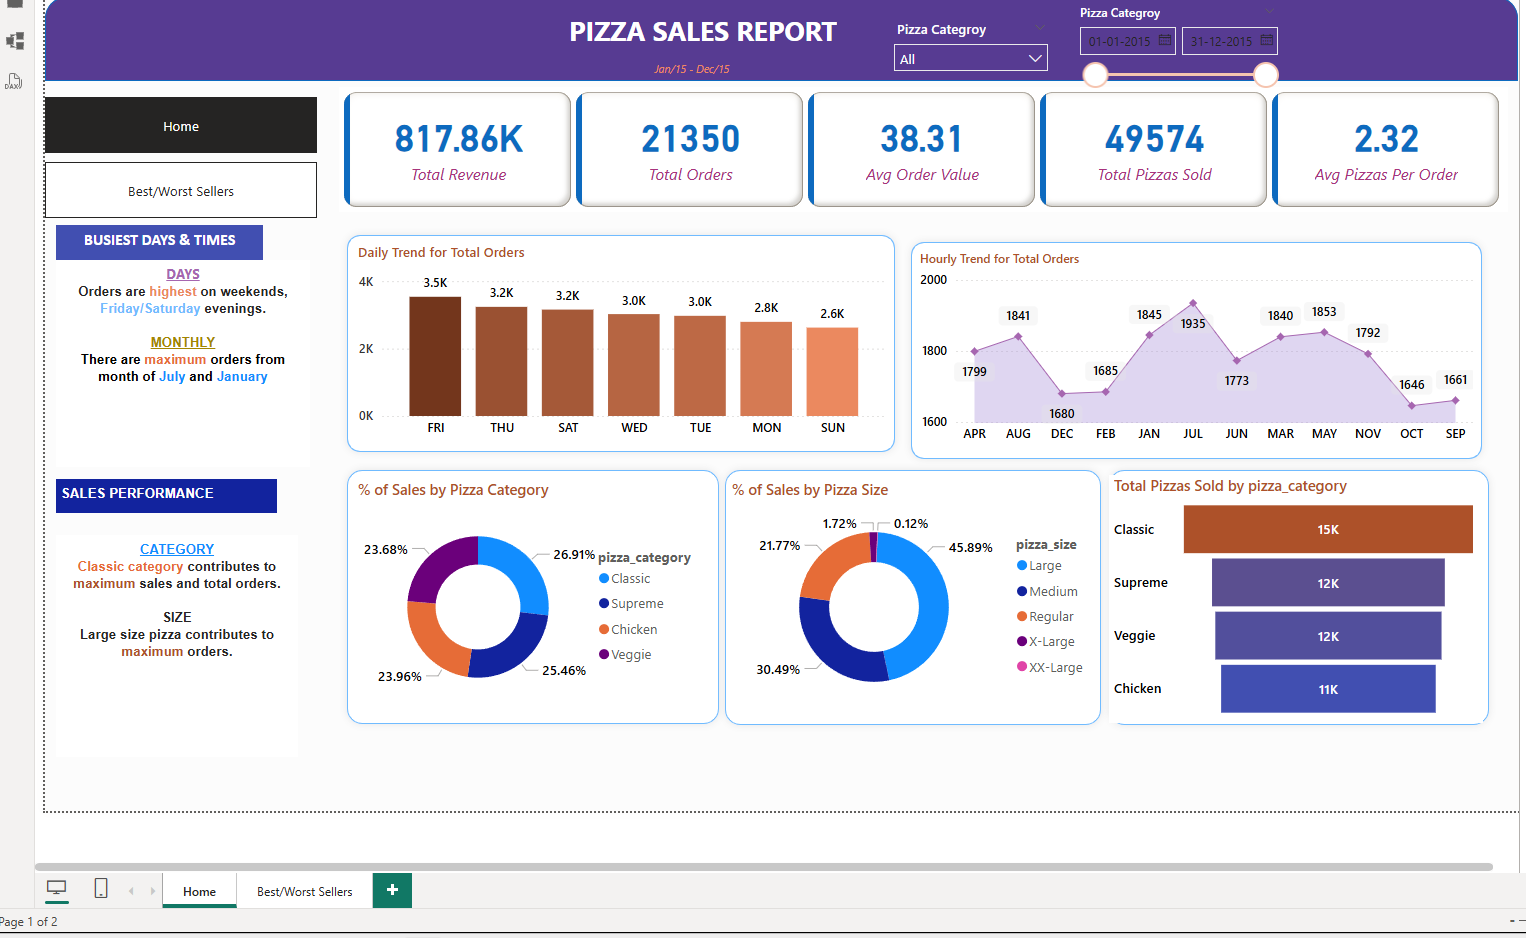

What the dashboard file says about the page in this screenshot:
{"tool":"powerbi","page":{"name":"Home","canvas":[1500,820],"ordinal":0},"visuals":[{"type":"cardVisual","fields":{"Data":["pizza_sales.Total Revenue","pizza_sales.Total Orders","pizza_sales.Avg Order Value","pizza_sales.Total Pizzas Sold","pizza_sales.Avg Pizzas Per Order"]},"box":[294,96,1169,125],"z":0},{"type":"shape","box":[0,6,1473,84],"z":1000},{"type":"textbox","box":[497,16,322,49],"z":2000},{"type":"textbox","box":[576,63,142,27],"z":3000},{"type":"shape","box":[294,236,564,233],"z":4000},{"type":"columnChart","title":"Daily Trend for Total Orders","fields":{"Y":["pizza_sales.Total Orders"],"Category":["pizza_sales.order day"]},"box":[308,252,538,203],"z":5000},{"type":"shape","box":[858,243,587,233],"z":6000},{"type":"areaChart","title":"Hourly Trend for Total Orders","fields":{"Y":["pizza_sales.Total Orders"],"Category":["pizza_sales.Order Month"]},"box":[870,259,563,202],"z":7000},{"type":"shape","box":[294,471,388,270],"z":8000},{"type":"shape","box":[672,471,392,271],"z":9000},{"type":"shape","box":[1056,471,396,271],"z":10000},{"type":"donutChart","title":"% of Sales by Pizza Category","fields":{"Category":["pizza_sales.pizza_category"],"Y":["pizza_sales.Total Revenue"]},"box":[308,488,359,236],"z":11000},{"type":"donutChart","title":"% of Sales by Pizza Size","fields":{"Y":["pizza_sales.Total Revenue"],"Category":["pizza_sales.pizza_size"]},"box":[682,488,374,236],"z":12000},{"type":"textbox","box":[11,234,207,35],"z":13000},{"type":"funnel","fields":{"Category":["pizza_sales.pizza_category"],"Y":["pizza_sales.Total Pizzas Sold"]},"box":[1064,484,374,248],"z":14000},{"type":"textbox","box":[11,269,254,207],"z":15000},{"type":"textbox","box":[11,488,221,34],"z":16000},{"type":"textbox","box":[11,544,242,222],"z":17000},{"type":"slicer","fields":{"Values":["pizza_sales.pizza_category"]},"box":[839,24,174,66],"z":18000},{"type":"slicer","fields":{"Values":["pizza_sales.order_date"]},"box":[1022,8,220,98],"z":19000},{"type":"pageNavigator","box":[0,106,272,56],"z":19001},{"type":"pageNavigator","box":[0,171,272,56],"z":19002}]}

Visuals, with their boxes on the page's 1500x820 design canvas (x1, y1, x2, y2). These are canvas units, not pixel positions in the 1526x938 screenshot, which may show the page scaled, cropped or inside an application window:
cardVisual - pizza_sales.Total Revenue x pizza_sales.Total Orders: {"left": 294, "top": 96, "right": 1463, "bottom": 221}
shape: {"left": 0, "top": 6, "right": 1473, "bottom": 90}
textbox: {"left": 497, "top": 16, "right": 819, "bottom": 65}
textbox: {"left": 576, "top": 63, "right": 718, "bottom": 90}
shape: {"left": 294, "top": 236, "right": 858, "bottom": 469}
"Daily Trend for Total Orders" columnChart: {"left": 308, "top": 252, "right": 846, "bottom": 455}
shape: {"left": 858, "top": 243, "right": 1445, "bottom": 476}
"Hourly Trend for Total Orders" areaChart: {"left": 870, "top": 259, "right": 1433, "bottom": 461}
shape: {"left": 294, "top": 471, "right": 682, "bottom": 741}
shape: {"left": 672, "top": 471, "right": 1064, "bottom": 742}
shape: {"left": 1056, "top": 471, "right": 1452, "bottom": 742}
"% of Sales by Pizza Category" donutChart: {"left": 308, "top": 488, "right": 667, "bottom": 724}
"% of Sales by Pizza Size" donutChart: {"left": 682, "top": 488, "right": 1056, "bottom": 724}
textbox: {"left": 11, "top": 234, "right": 218, "bottom": 269}
funnel - pizza_sales.pizza_category x pizza_sales.Total Pizzas Sold: {"left": 1064, "top": 484, "right": 1438, "bottom": 732}
textbox: {"left": 11, "top": 269, "right": 265, "bottom": 476}
textbox: {"left": 11, "top": 488, "right": 232, "bottom": 522}
textbox: {"left": 11, "top": 544, "right": 253, "bottom": 766}
slicer - pizza_sales.pizza_category: {"left": 839, "top": 24, "right": 1013, "bottom": 90}
slicer - pizza_sales.order_date: {"left": 1022, "top": 8, "right": 1242, "bottom": 106}
pageNavigator: {"left": 0, "top": 106, "right": 272, "bottom": 162}
pageNavigator: {"left": 0, "top": 171, "right": 272, "bottom": 227}
